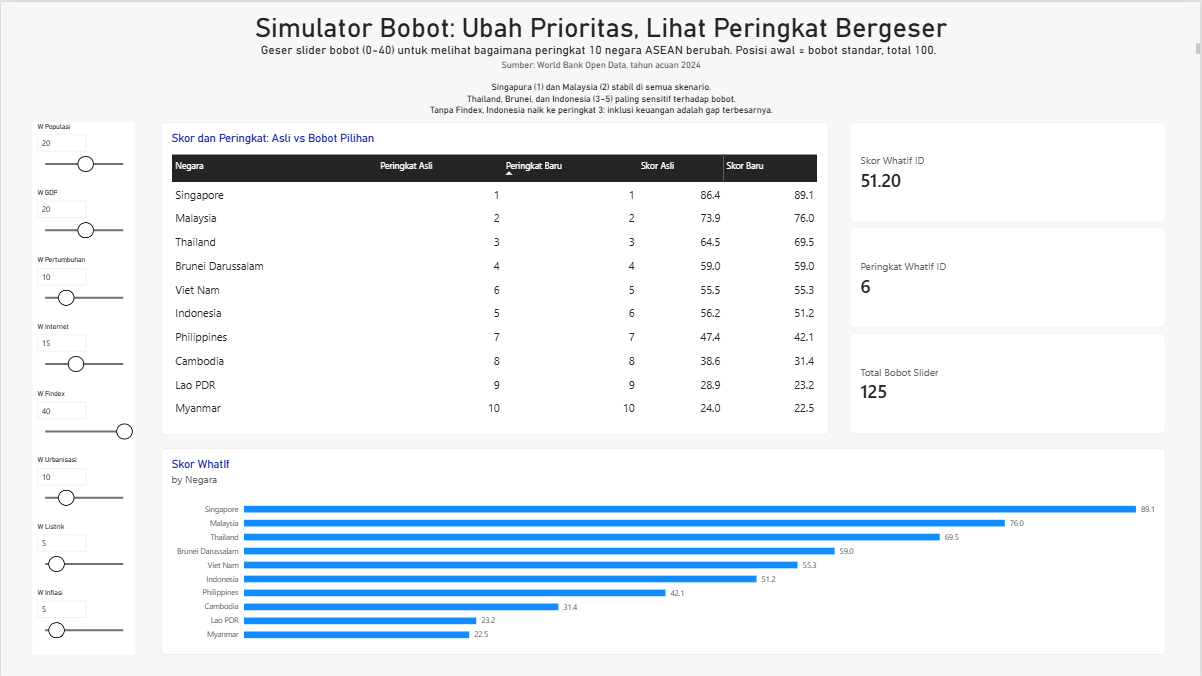

The page's visual inventory and layout, read from the dashboard file:
{"tool":"powerbi","page":{"name":"2. Simulator bobot","canvas":[1920,1080],"ordinal":1},"visuals":[{"type":"textbox","box":[0,16,1920,52],"z":0},{"type":"textbox","box":[0,90,1920,24],"z":1000},{"type":"textbox","box":[397.8,126.7,1124.4,65.6],"z":2000},{"type":"textbox","box":[0,66.8,1920,24],"z":3000},{"type":"tableEx","title":"Skor dan Peringkat: Asli vs Bobot Pilihan","fields":{"Values":["skor_negara.negara_nama","skor_negara.peringkat","skor_negara.Peringkat WhatIf","skor_negara.skor_total","skor_negara.Skor WhatIf"]},"box":[255.9,192,1068.6,500.5],"z":3000,"group":"g1"},{"type":"slicer","fields":{"Values":["W GDP.W GDP"]},"box":[50,298,163.8,106.5],"z":3000,"group":"g2"},{"type":"slicer","fields":{"Values":["W Populasi.W Populasi"]},"box":[50,192,163.8,106],"z":4000,"group":"g2"},{"type":"group","id":"g1","title":"Group 2","box":[50,192,1814,852],"z":4000},{"type":"cardVisual","fields":{"Data":["skor_negara.Skor WhatIf ID","skor_negara.Peringkat WhatIf ID","skor_negara.Total Bobot Slider"]},"box":[1358.4,192,505.6,500.5],"z":4000,"group":"g1"},{"type":"group","id":"g2","title":"Group 1","box":[50,192,164.2,852],"z":5000,"group":"g1"},{"type":"slicer","fields":{"Values":["W Internet.W Internet"]},"box":[50,512.7,163.8,106.5],"z":5000,"group":"g2"},{"type":"slicer","fields":{"Values":["W Pertumbuhan.W Pertumbuhan"]},"box":[50,406.4,163.8,106.5],"z":6000,"group":"g2"},{"type":"barChart","fields":{"Category":["negara_indikator.negara_nama"],"Y":["skor_negara.Skor WhatIf"]},"box":[255.9,713.5,1608.1,330.5],"z":6000,"group":"g1"},{"type":"slicer","fields":{"Values":["W Findex.W Findex"]},"box":[50,619.1,163.8,106.5],"z":7000,"group":"g2"},{"type":"slicer","fields":{"Values":["W Urbanisasi.W Urbanisasi"]},"box":[50,725.8,163.8,106.8],"z":8000,"group":"g2"},{"type":"slicer","fields":{"Values":["W Listrik.W Listrik"]},"box":[50,831.8,163.8,106],"z":9000,"group":"g2"},{"type":"slicer","fields":{"Values":["W Inflasi.W Inflasi"]},"box":[50,937.8,163.8,105.1],"z":10000,"group":"g2"}]}

Visuals, with their boxes in screenshot pixels (x1, y1, x2, y2), scaled from the page's 1920x1080 canvas onto the 1202x676 screenshot:
textbox: Rect(0, 10, 1201, 43)
textbox: Rect(0, 56, 1201, 71)
textbox: Rect(249, 79, 953, 120)
textbox: Rect(0, 42, 1201, 57)
"Skor dan Peringkat: Asli vs Bobot Pilihan" tableEx: Rect(160, 120, 829, 433)
slicer - W GDP.W GDP: Rect(31, 187, 134, 253)
slicer - W Populasi.W Populasi: Rect(31, 120, 134, 187)
"Group 2" group: Rect(31, 120, 1167, 653)
cardVisual - skor_negara.Skor WhatIf ID x skor_negara.Peringkat WhatIf ID: Rect(850, 120, 1167, 433)
"Group 1" group: Rect(31, 120, 134, 653)
slicer - W Internet.W Internet: Rect(31, 321, 134, 388)
slicer - W Pertumbuhan.W Pertumbuhan: Rect(31, 254, 134, 321)
barChart - negara_indikator.negara_nama x skor_negara.Skor WhatIf: Rect(160, 447, 1167, 653)
slicer - W Findex.W Findex: Rect(31, 388, 134, 454)
slicer - W Urbanisasi.W Urbanisasi: Rect(31, 454, 134, 521)
slicer - W Listrik.W Listrik: Rect(31, 521, 134, 587)
slicer - W Inflasi.W Inflasi: Rect(31, 587, 134, 653)
